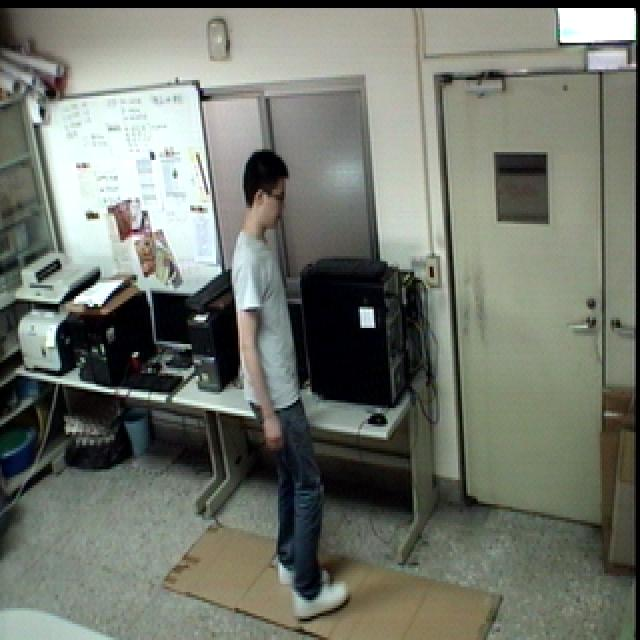stand: (229, 141, 354, 621)
